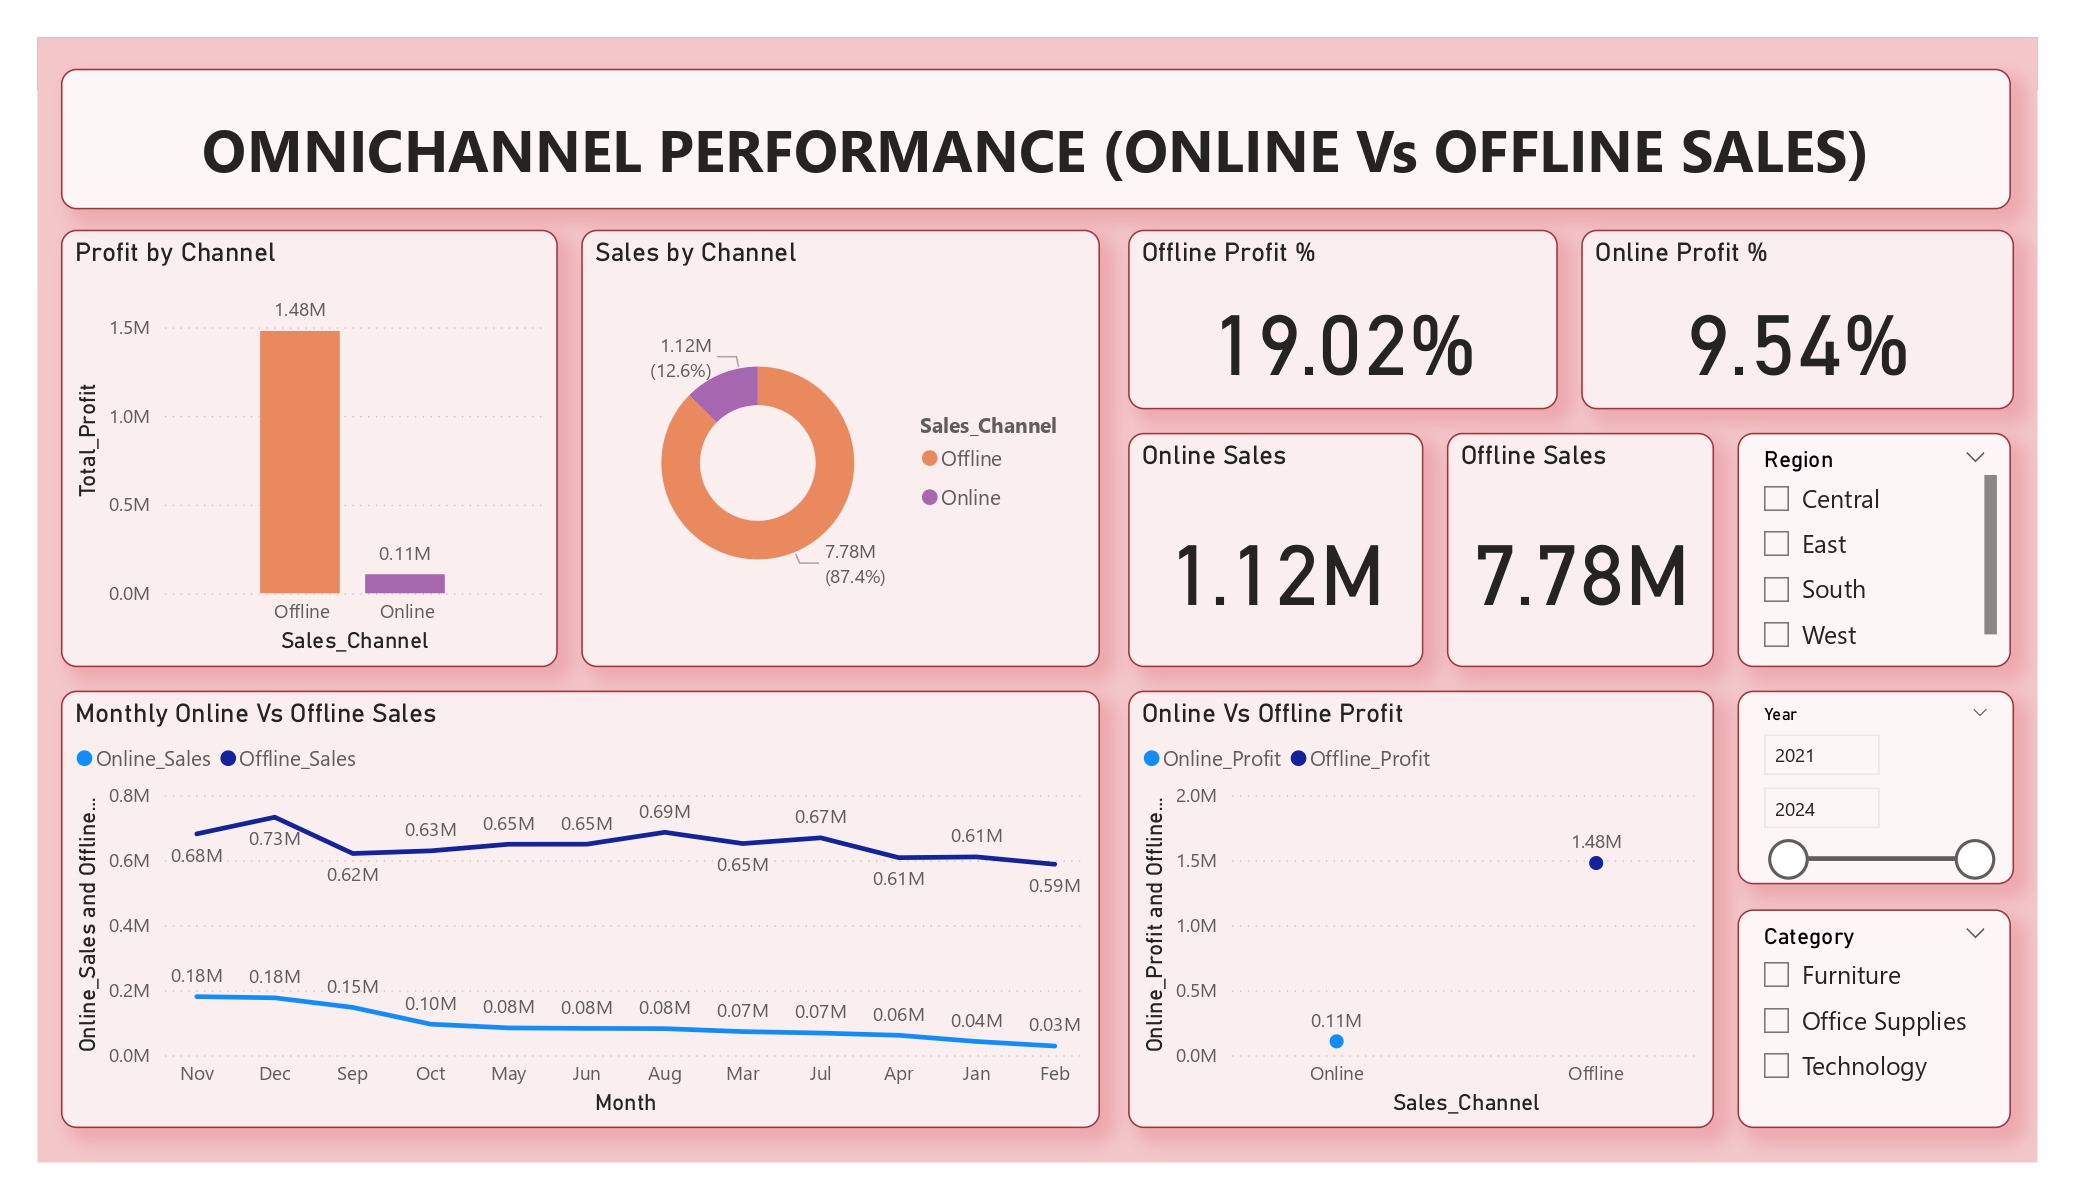

The page's visual inventory and layout, read from the dashboard file:
{"tool":"powerbi","page":{"name":"Omnichannel performance","canvas":[1280,720],"ordinal":2},"visuals":[{"type":"donutChart","title":"Sales by Channel","fields":{"Category":["Sales.Sales_Channel"],"Y":["Sales.Total_Sales"]},"box":[348.3,123.3,331.7,280],"z":0},{"type":"clusteredColumnChart","title":"Profit by Channel","fields":{"Category":["Sales.Sales_Channel"],"Y":["Sales.Total_Profit"]},"box":[15,123.3,318.3,280],"z":1000},{"type":"lineChart","title":"Monthly Online Vs Offline Sales","fields":{"Category":["DateTable.Month"],"Y":["Sales.Online_Sales","Sales.Offline_Sales"]},"box":[15,418.3,665,280],"z":2000},{"type":"card","title":"Online Sales","fields":{"Values":["Sales.Online_Sales"]},"box":[698.3,253.3,188.3,150],"z":3000},{"type":"card","title":"Offline Sales","fields":{"Values":["Sales.Offline_Sales"]},"box":[901.7,253.3,171.7,150],"z":4000},{"type":"card","title":"Offline Profit %","fields":{"Values":["Sales.Offline_Profit_Margin"]},"box":[698.3,123.3,275,115],"z":5000},{"type":"card","title":"Online Profit %","fields":{"Values":["Sales.Online_Profit_Margin"]},"box":[988.3,123.3,276.7,115],"z":6000},{"type":"slicer","fields":{"Values":["DateTable.Year"]},"box":[1088.3,418.3,176.7,123.3],"z":7000},{"type":"slicer","fields":{"Values":["Region_Dim.Region"]},"box":[1088.3,253.3,175,150],"z":8000},{"type":"slicer","fields":{"Values":["Product.Category"]},"box":[1088.3,558.3,175,140],"z":9000},{"type":"areaChart","title":"Online Vs Offline Profit","fields":{"Category":["SalesChannel.Sales_Channel"],"Y":["Sales.Online_Profit","Sales.Offline_Profit"]},"box":[698.3,418.3,375,280],"z":10000},{"type":"textbox","box":[15,20,1248.3,90],"z":11000}]}

Visuals, with their boxes on the page's 1280x720 design canvas (x1, y1, x2, y2). These are canvas units, not pixel positions in the 2075x1200 screenshot, which may show the page scaled, cropped or inside an application window:
"Sales by Channel" donutChart: <bbox>348, 123, 680, 403</bbox>
"Profit by Channel" clusteredColumnChart: <bbox>15, 123, 333, 403</bbox>
"Monthly Online Vs Offline Sales" lineChart: <bbox>15, 418, 680, 698</bbox>
"Online Sales" card: <bbox>698, 253, 887, 403</bbox>
"Offline Sales" card: <bbox>902, 253, 1073, 403</bbox>
"Offline Profit %" card: <bbox>698, 123, 973, 238</bbox>
"Online Profit %" card: <bbox>988, 123, 1265, 238</bbox>
slicer - DateTable.Year: <bbox>1088, 418, 1265, 542</bbox>
slicer - Region_Dim.Region: <bbox>1088, 253, 1263, 403</bbox>
slicer - Product.Category: <bbox>1088, 558, 1263, 698</bbox>
"Online Vs Offline Profit" areaChart: <bbox>698, 418, 1073, 698</bbox>
textbox: <bbox>15, 20, 1263, 110</bbox>
